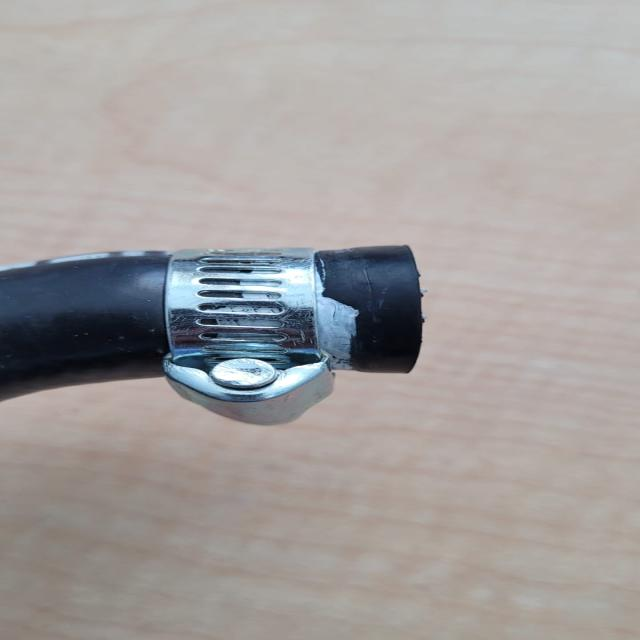clamp: (154, 251, 326, 424)
pipe: (325, 250, 418, 370)
